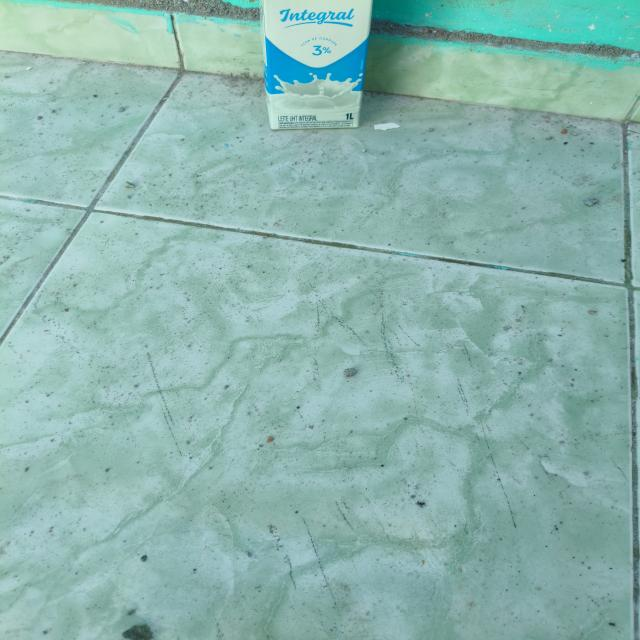Caixa de Leite: (259, 1, 370, 131)
